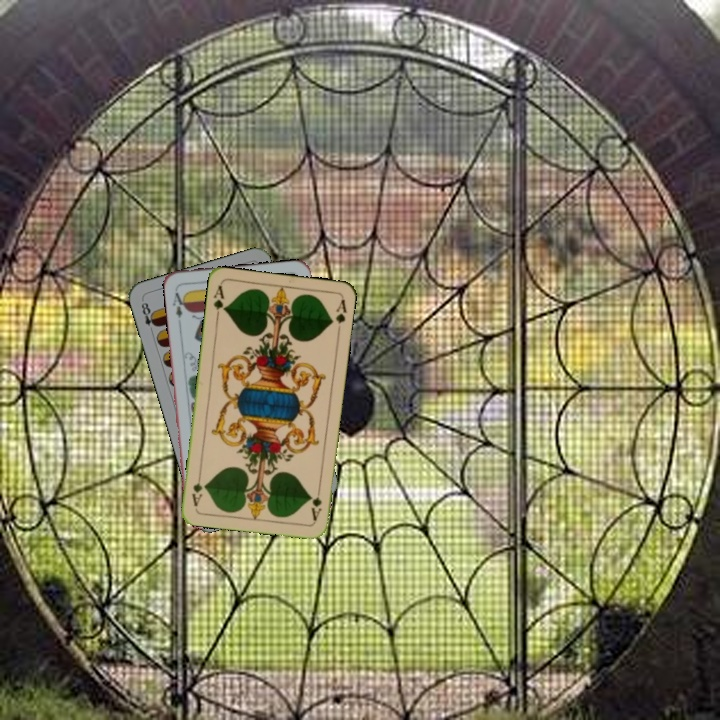E8: (137, 296, 160, 336)
EA: (168, 285, 189, 320)
GA: (209, 281, 228, 322), (307, 483, 324, 524)
